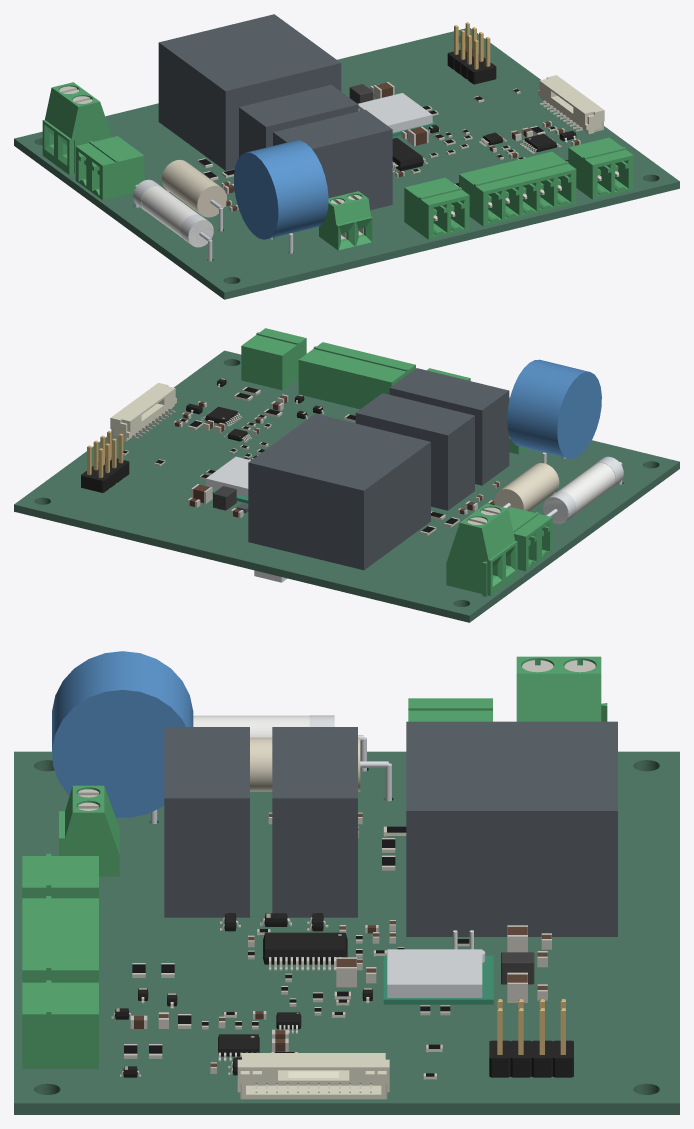
File: pump-controller-main-rev-e.glb
The picture shows the model from 3 angles, top to bottom: view 1: azimuth 30°, elevation 25°; view 2: azimuth 150°, elevation 25°; view 3: azimuth 270°, elevation 25°; orthographic projection. The views are drawn at different scales.
Parts seen in each view (by area): view 1: =>[0:1:1:128], =>[0:1:1:45], =>[0:1:1:25] (×2), =>[0:1:1:67], =>[0:1:1:13] (×2), =>[0:1:1:77], =>[0:1:1:21], =>[0:1:1:73], =>[0:1:1:19], =>[0:1:1:65], =>[0:1:1:39], =>[0:1:1:11] (+5 smaller); view 2: =>[0:1:1:128], =>[0:1:1:45], =>[0:1:1:25] (×2), =>[0:1:1:67], =>[0:1:1:77], =>[0:1:1:21], =>[0:1:1:13], =>[0:1:1:65], =>[0:1:1:73], =>[0:1:1:11], =>[0:1:1:39], =>[0:1:1:51] (+4 smaller); view 3: =>[0:1:1:128], =>[0:1:1:45], =>[0:1:1:25] (×2), =>[0:1:1:67], =>[0:1:1:13] (×2), =>[0:1:1:65], =>[0:1:1:77], =>[0:1:1:21], =>[0:1:1:32], =>[0:1:1:11], =>[0:1:1:19], =>[0:1:1:61] (+6 smaller).
Boxes of the visible parts, x1,y1,x2,y2 form: =>[0:1:1:128]: (14, 28, 679, 299); =>[0:1:1:45]: (158, 14, 341, 170); =>[0:1:1:25] (×2): (239, 84, 392, 210); =>[0:1:1:67]: (234, 140, 328, 239); =>[0:1:1:13] (×2): (404, 137, 633, 239); =>[0:1:1:77]: (459, 151, 576, 226); =>[0:1:1:21]: (42, 82, 111, 174); =>[0:1:1:73]: (75, 136, 144, 200); =>[0:1:1:19]: (319, 191, 372, 250); =>[0:1:1:65]: (538, 75, 604, 134); =>[0:1:1:39]: (161, 159, 226, 217); =>[0:1:1:11]: (447, 22, 496, 84); =>[0:1:1:128]: (14, 350, 679, 622); =>[0:1:1:45]: (248, 413, 430, 570); =>[0:1:1:25] (×2): (355, 368, 509, 510); =>[0:1:1:67]: (507, 359, 601, 458); =>[0:1:1:77]: (298, 342, 415, 409); =>[0:1:1:21]: (446, 503, 517, 596); =>[0:1:1:13]: (241, 328, 306, 390); =>[0:1:1:65]: (110, 383, 176, 441); =>[0:1:1:73]: (508, 507, 552, 571); =>[0:1:1:11]: (81, 430, 129, 492); =>[0:1:1:39]: (494, 463, 559, 511); =>[0:1:1:51]: (543, 462, 615, 524); =>[0:1:1:128]: (14, 751, 679, 1114); =>[0:1:1:45]: (406, 721, 617, 936); =>[0:1:1:25] (×2): (164, 727, 357, 917); =>[0:1:1:67]: (52, 651, 193, 817); =>[0:1:1:13] (×2): (22, 853, 98, 1068); =>[0:1:1:65]: (237, 1053, 389, 1099); =>[0:1:1:77]: (22, 896, 98, 982); =>[0:1:1:21]: (516, 656, 607, 721); =>[0:1:1:32]: (387, 949, 482, 997); =>[0:1:1:11]: (489, 999, 573, 1077); =>[0:1:1:19]: (59, 785, 119, 876); =>[0:1:1:61]: (263, 932, 347, 970).
Size of the model in its own units: 0.1 by 0.0352 by 0.08.
